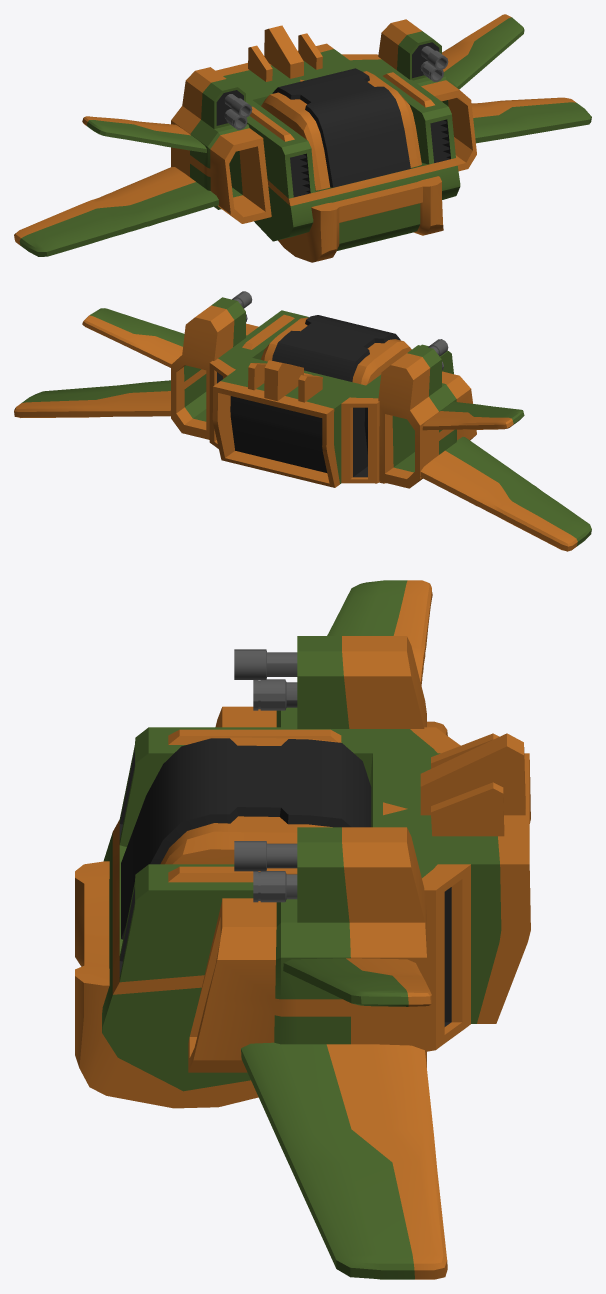
The model's file is Spaceship 4.compressed.glb.
3 views of the same model, one above another, from view 1: azimuth 30°, elevation 25°; view 2: azimuth 150°, elevation 25°; view 3: azimuth 270°, elevation 25° (orthographic). The views are drawn at different scales.
Parts seen in each view (by area): view 1: Spaceship_FinnTheFrog; view 2: Spaceship_FinnTheFrog; view 3: Spaceship_FinnTheFrog.
Boxes of the visible parts, x1=… form: Spaceship_FinnTheFrog: x1=14, y1=14, x2=591, y2=262; Spaceship_FinnTheFrog: x1=14, y1=291, x2=591, y2=551; Spaceship_FinnTheFrog: x1=75, y1=580, x2=530, y2=1279.
Size of the model in its own units: 11.62 by 3.05 by 4.11.
1 material, 1 textured.
